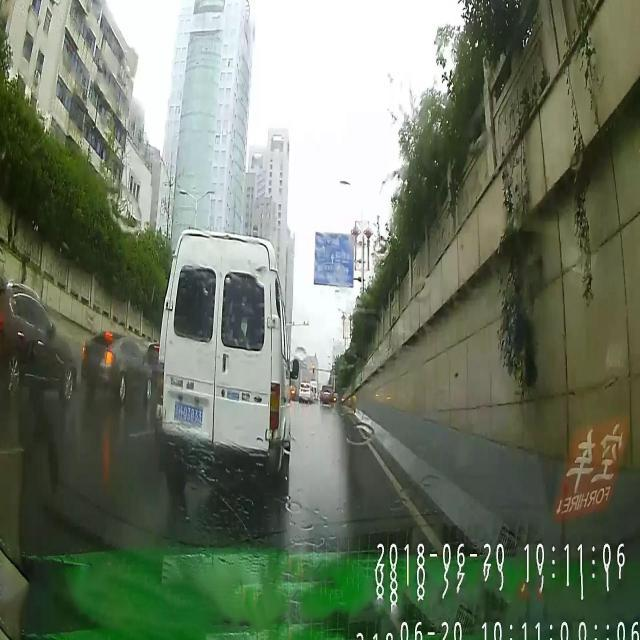car: (154, 228, 292, 480), (0, 276, 77, 410), (80, 332, 151, 399), (318, 382, 334, 406), (298, 383, 312, 403)
